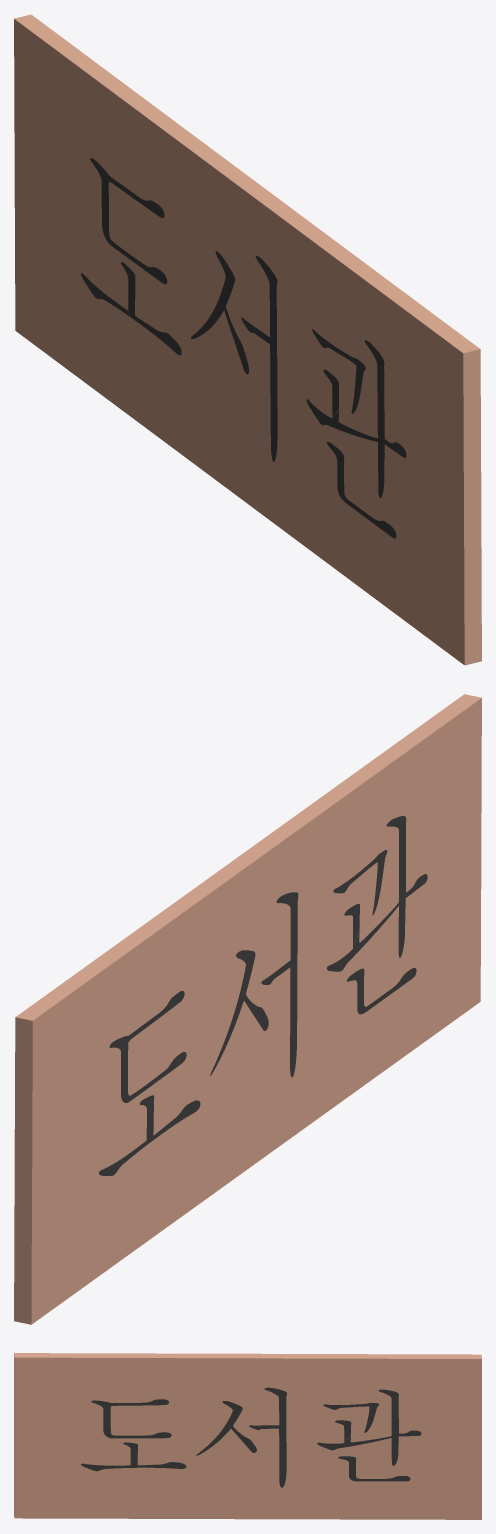
The model's file is a library sign.fbx.
3 views of the same model, one above another, from view 1: azimuth 30°, elevation 25°; view 2: azimuth 150°, elevation 25°; view 3: azimuth 270°, elevation 25° (orthographic). The views are drawn at different scales.
Parts seen in each view (by area): view 1: 텍스트.001; view 2: 텍스트.001; view 3: 텍스트.001.
Part boxes in pixels (x1=…): 텍스트.001: x1=14, y1=14, x2=481, y2=665; 텍스트.001: x1=14, y1=694, x2=481, y2=1324; 텍스트.001: x1=14, y1=1353, x2=481, y2=1519.
Size of the model in its own units: 2.8 by 24.44 by 64.51.
